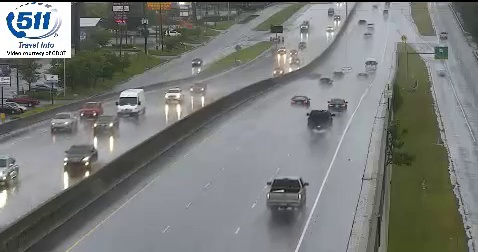car: (266, 176, 306, 211), (307, 110, 332, 129), (327, 98, 347, 113)
